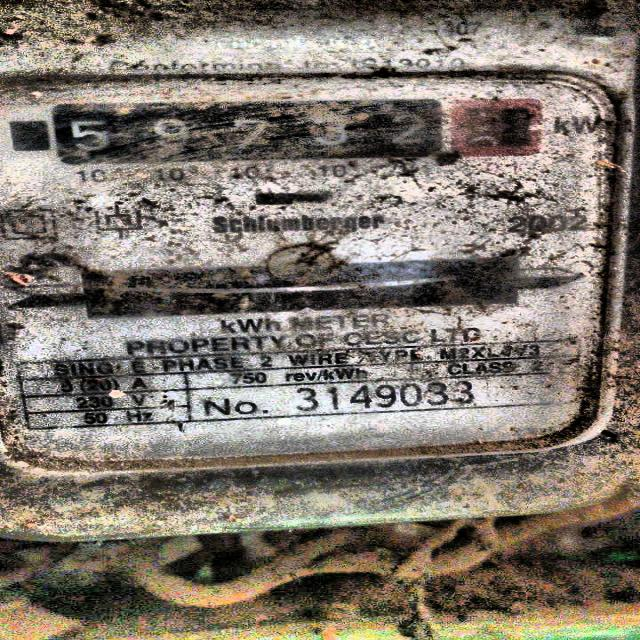Analog: (9, 0, 633, 542)
Reading: (56, 105, 538, 153)
Serial No.: (284, 383, 485, 411)
